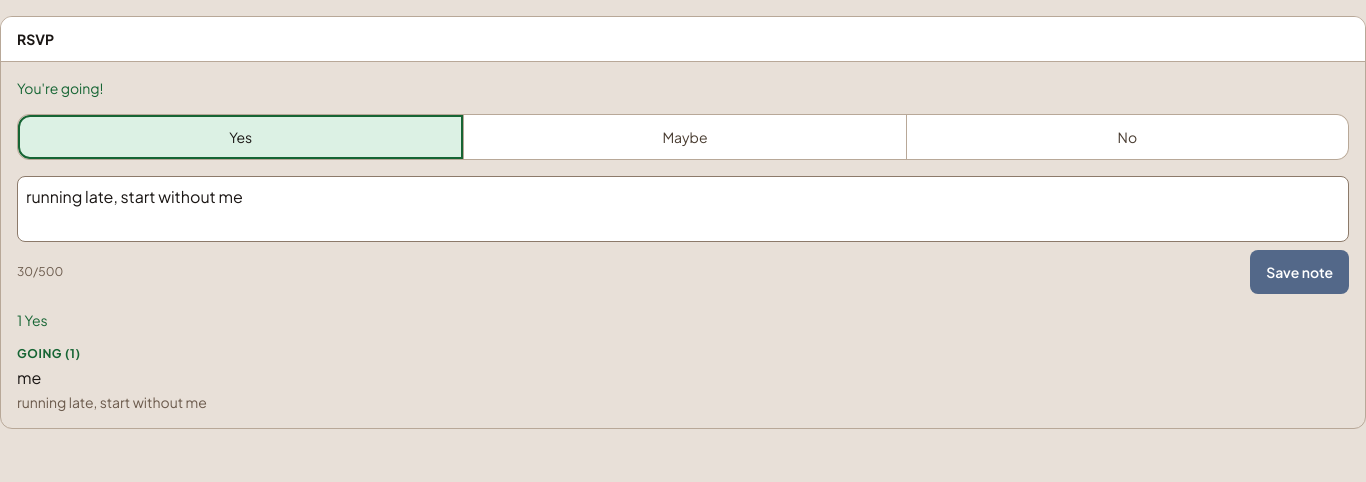
Scenario: RsvpSection W44/P3 — the outcome regions › success and failure CLEAR EACH OTHER — the two regions cannot contradict
Click the button "Save note": point(1300, 272) x1=1250 y1=250 x2=1349 y2=294
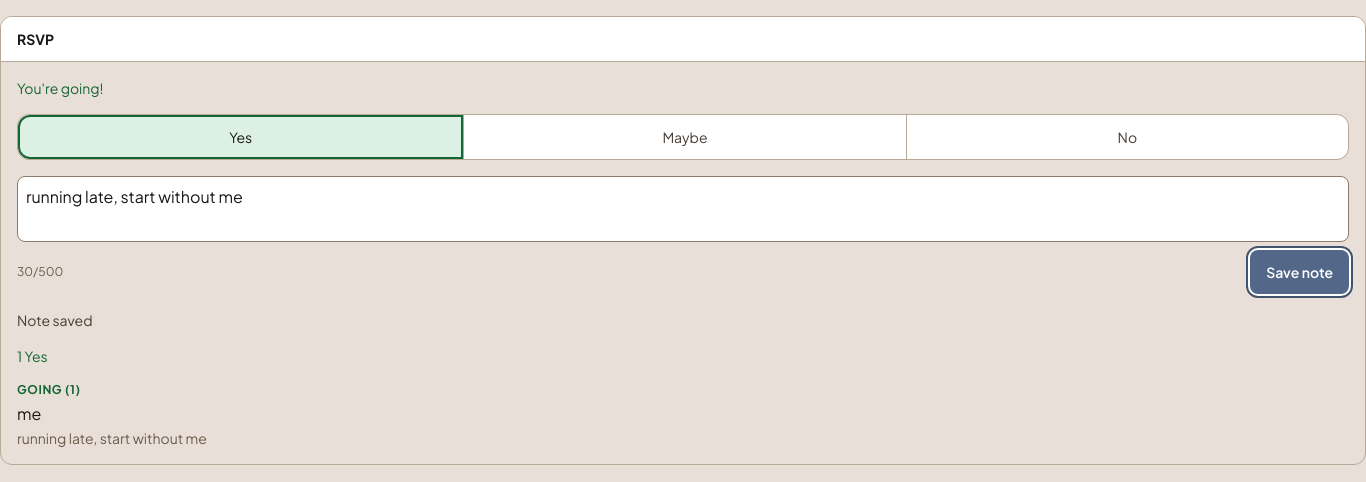
Expected: the message reads "Note saved", x1=17 y1=311 x2=92 y2=329
Click the button "Save note": point(1300, 272) x1=1250 y1=250 x2=1349 y2=294
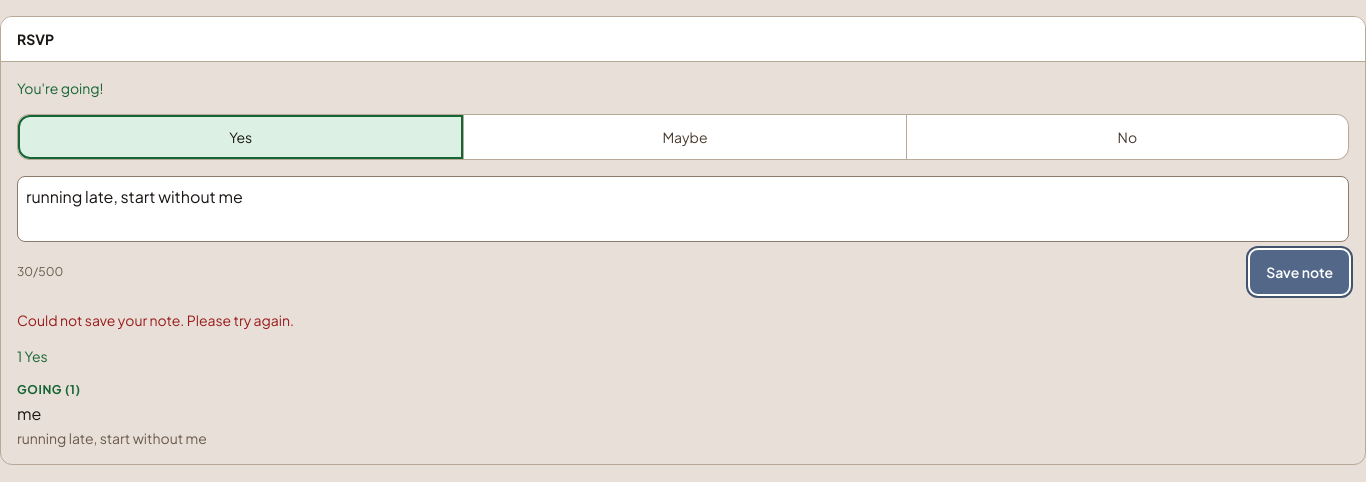
Expected: the message does not show ""
Click the button "Save note": point(1300, 272) x1=1250 y1=250 x2=1349 y2=294
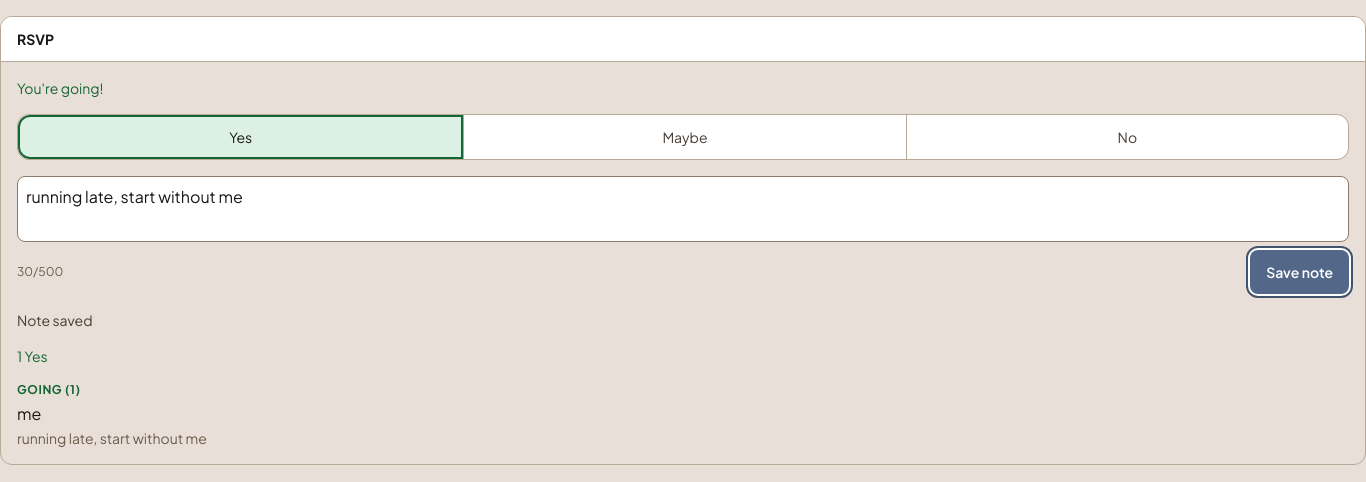
Expected: the message reads "Note saved", x1=17 y1=311 x2=92 y2=329
